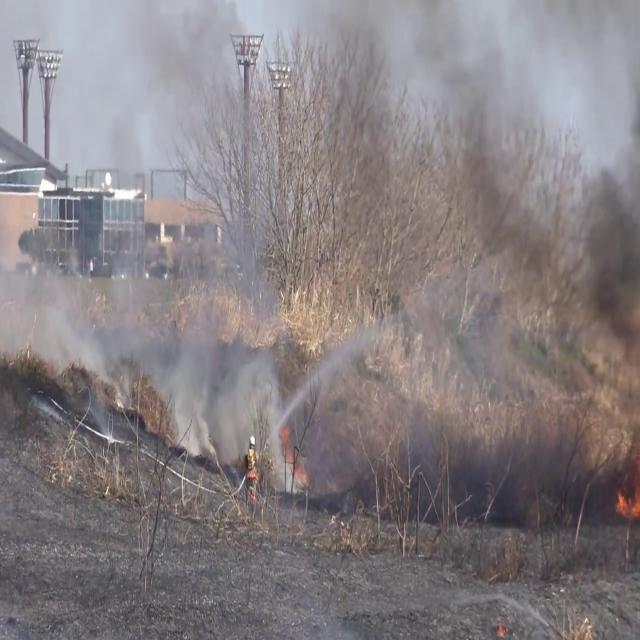Fire: (614, 453, 640, 523)
Smoke: (1, 1, 284, 467), (403, 0, 640, 418)
